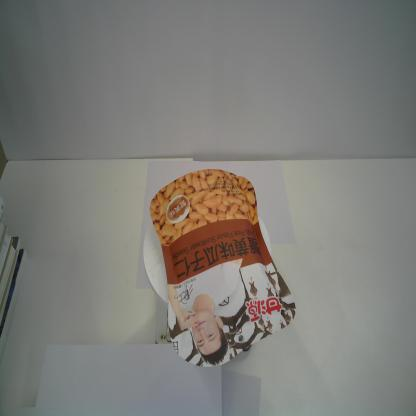Dried Fruit: (149, 168, 296, 369)
